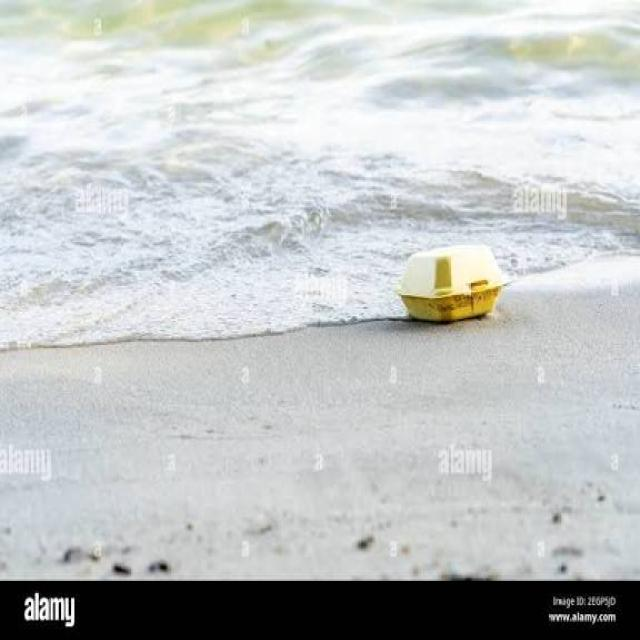styrofoam: (378, 215, 528, 356)
